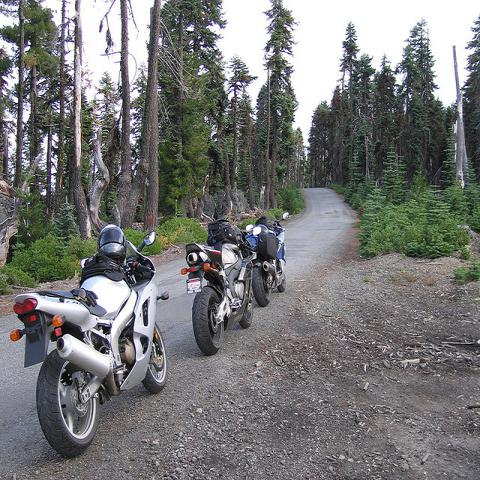motorcycle: (3, 198, 173, 456), (180, 207, 262, 358), (255, 218, 288, 305)
